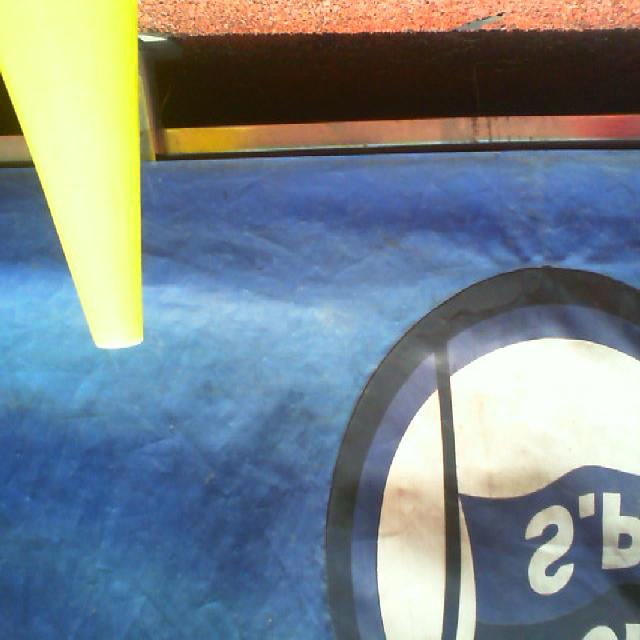cone: (0, 0, 143, 350)
